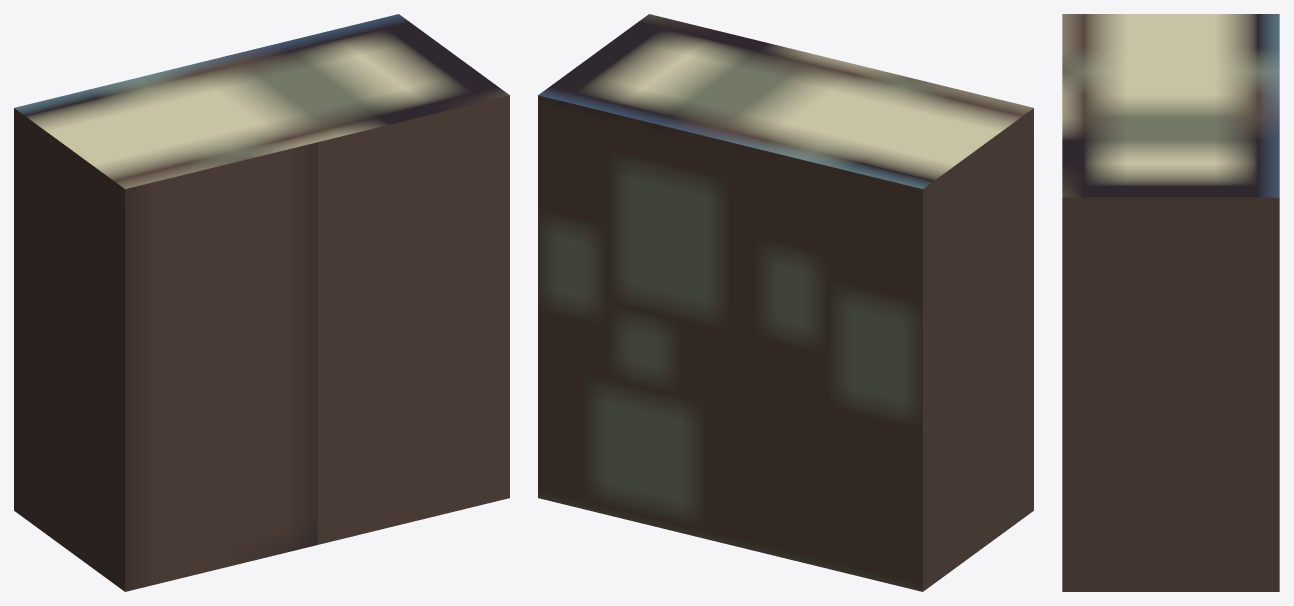
File: wall5.fbx
3 views of the same model, side by side, from view 1: azimuth 30°, elevation 25°; view 2: azimuth 150°, elevation 25°; view 3: azimuth 270°, elevation 25° (orthographic). The views are drawn at different scales.
Parts seen in each view (by area): view 1: Wall1.028; view 2: Wall1.028; view 3: Wall1.028.
Boxes of the visible parts, x1,y1,x2,y2 form: Wall1.028: (14,14,509,591); Wall1.028: (538,14,1033,591); Wall1.028: (1062,14,1279,591).
Size of the model in its own units: 200 by 200 by 100.
